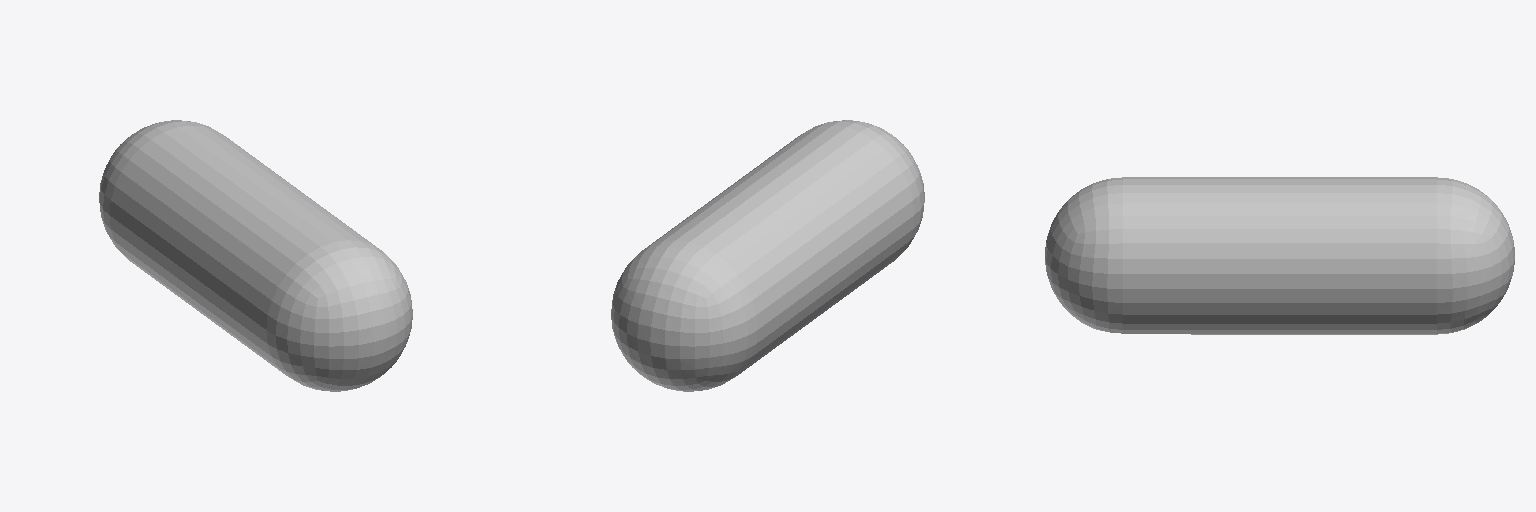
Rendered from CapsuleLonger.obj.
The picture shows the model from 3 angles: view 1: azimuth 30°, elevation 25°; view 2: azimuth 150°, elevation 25°; view 3: azimuth 270°, elevation 25°; orthographic projection.
Parts seen in each view (by area): view 1: CapsuleLonger; view 2: CapsuleLonger; view 3: CapsuleLonger.
Part boxes in pixels (left/top/right/bottom): CapsuleLonger: left=99, top=120, right=412, bottom=391; CapsuleLonger: left=611, top=120, right=924, bottom=391; CapsuleLonger: left=1045, top=177, right=1514, bottom=334.
Size of the model in its own units: 1 by 1 by 2.99.